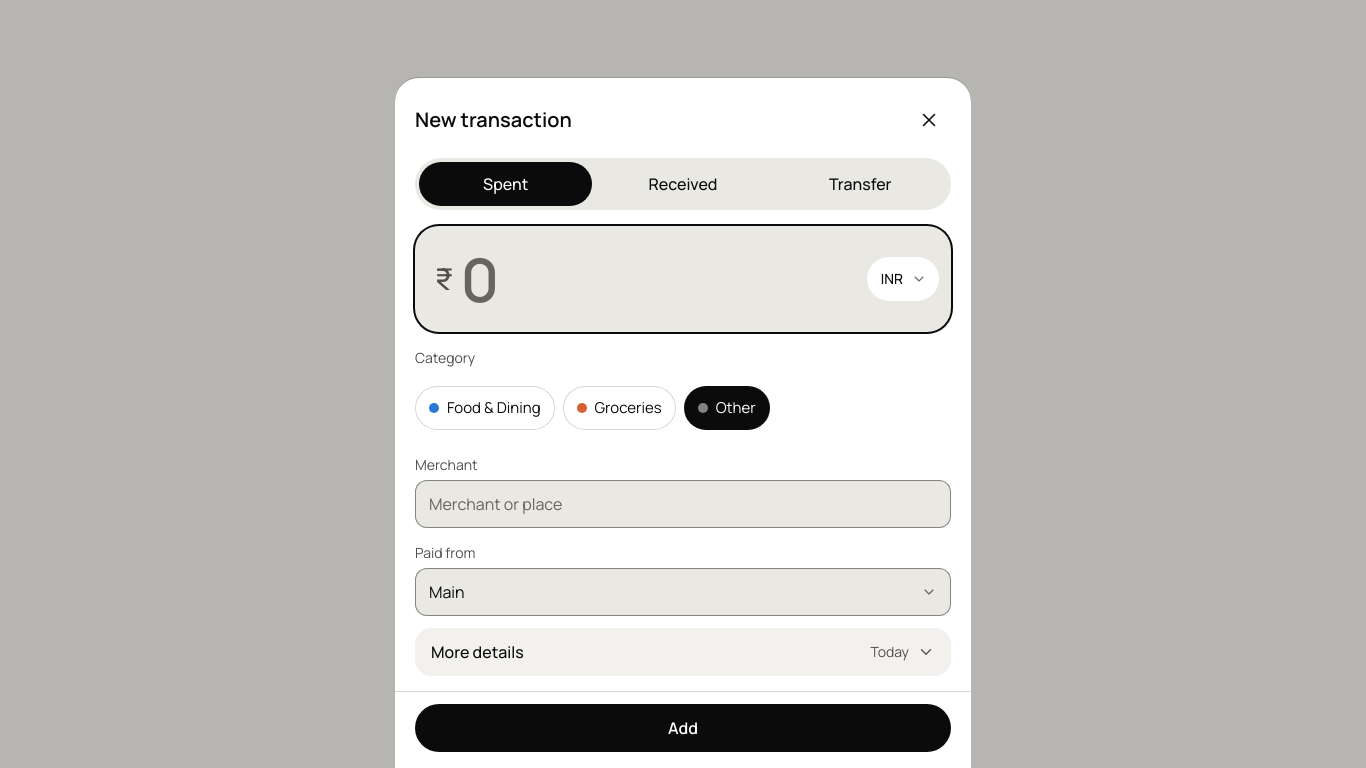
Test: Add form: transfer › refuses a transfer to the same account
Click the radio button labelled "Transfer" at (860, 184), box [829, 173, 892, 195]
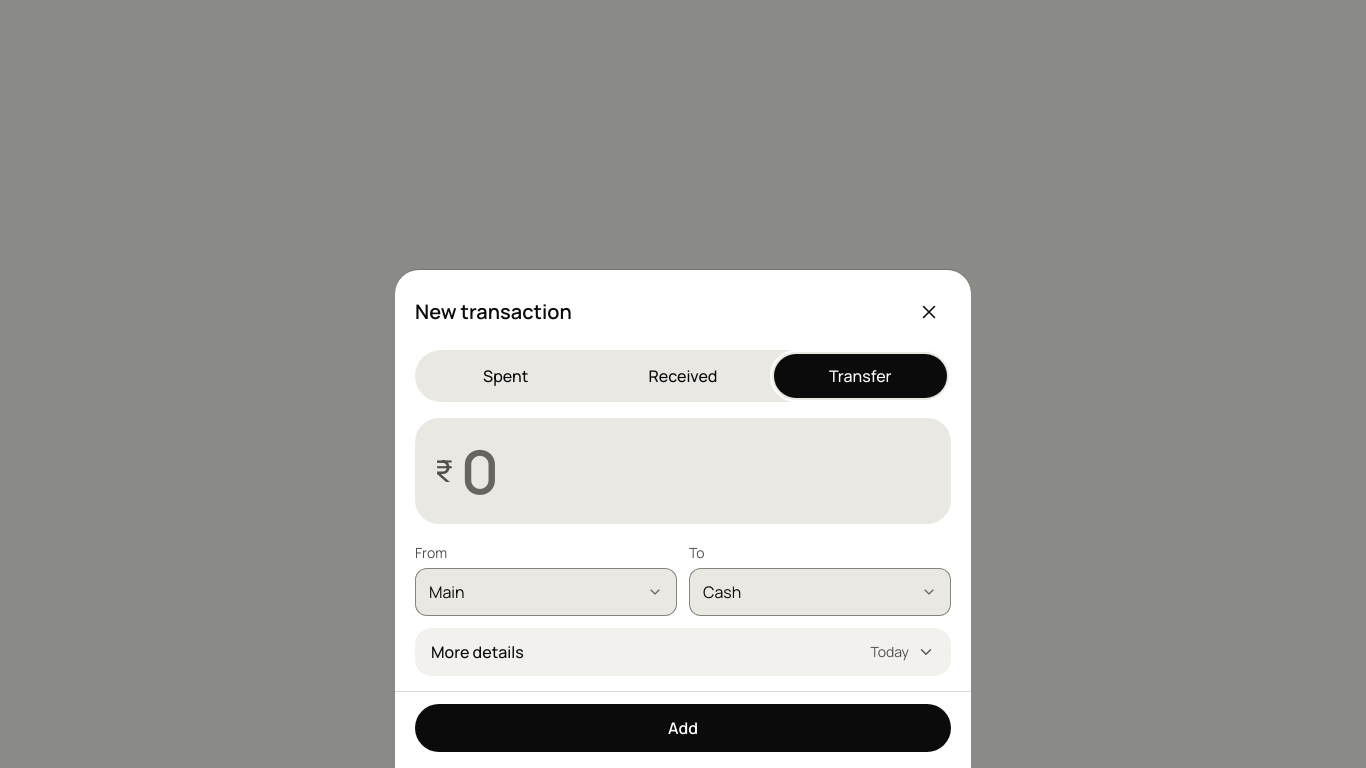
Click the button named "To" at (722, 592), box [689, 568, 951, 616]
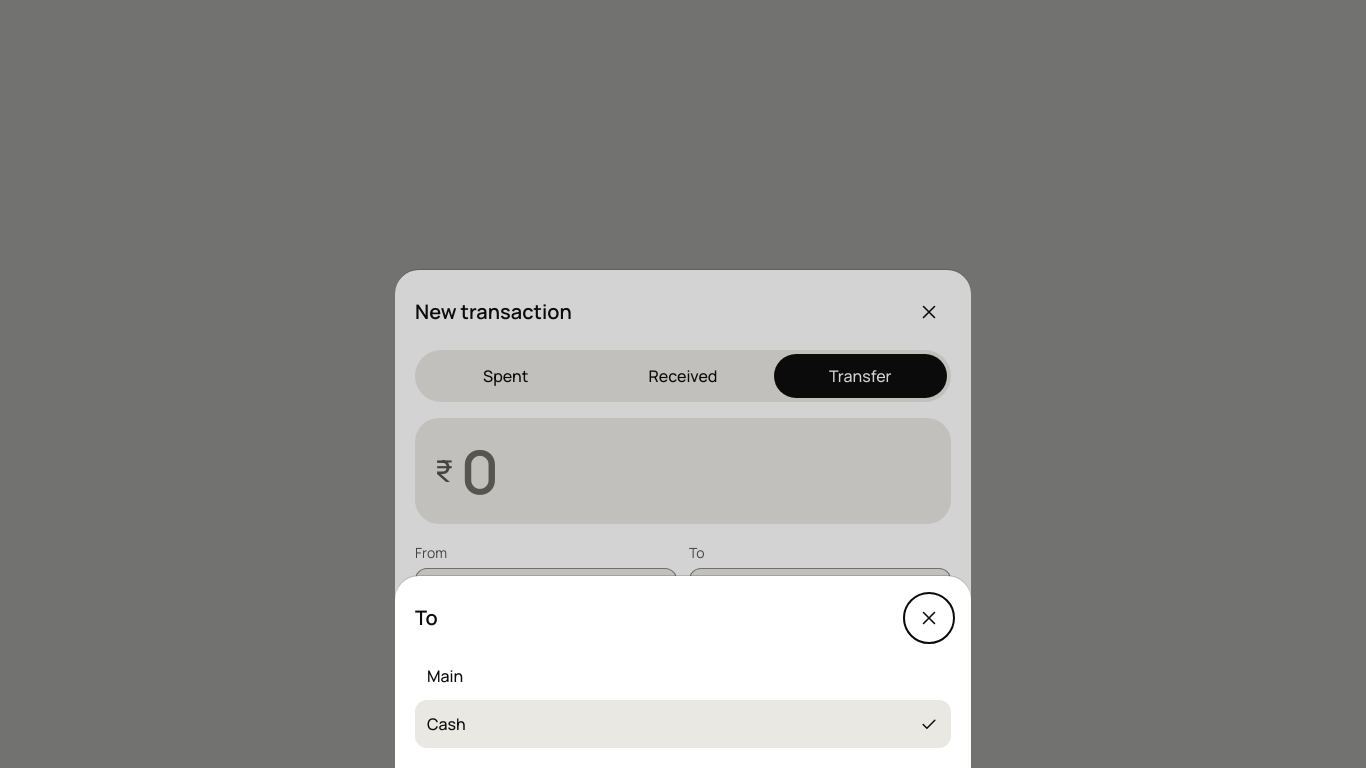
Click the radio button labelled "Main" at (445, 676), box [415, 652, 951, 700]
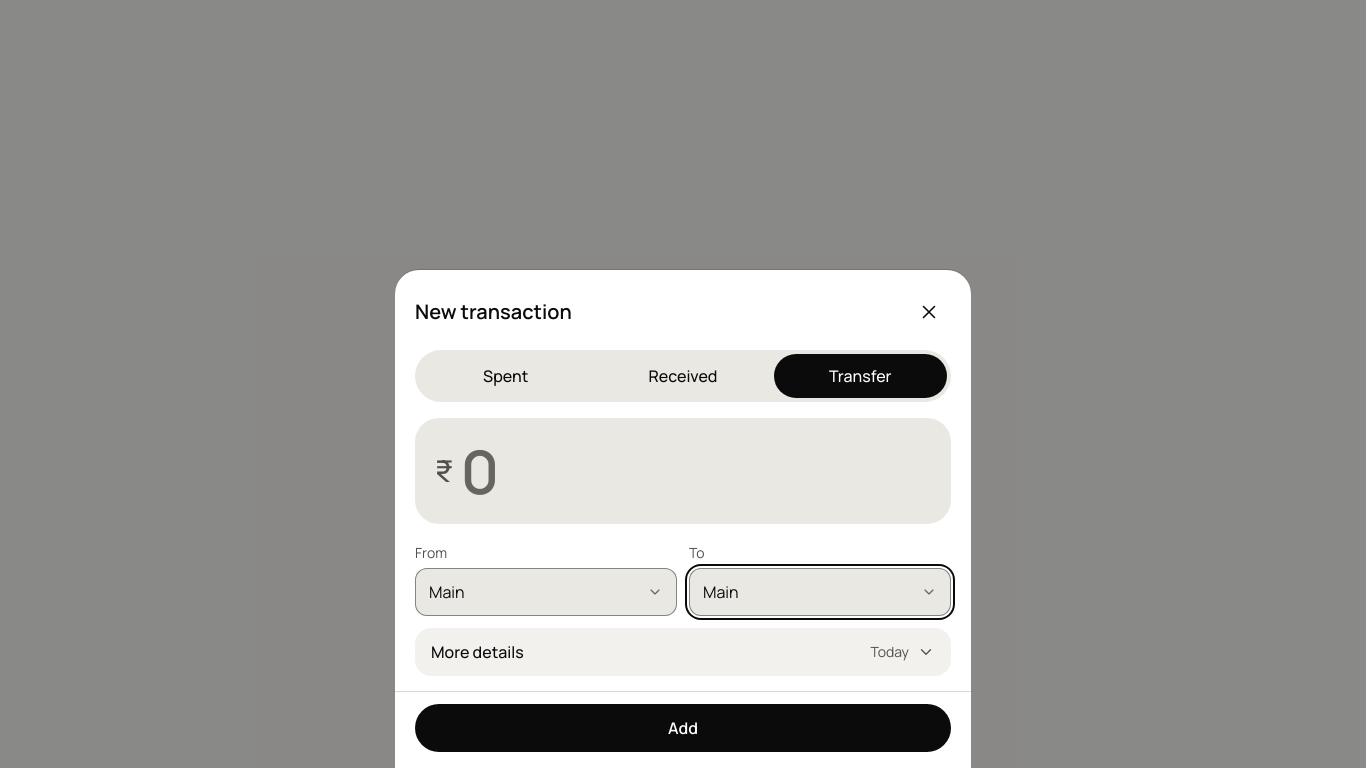
Type "100" into the field named "Amount" at (700, 471), box [461, 430, 939, 512]
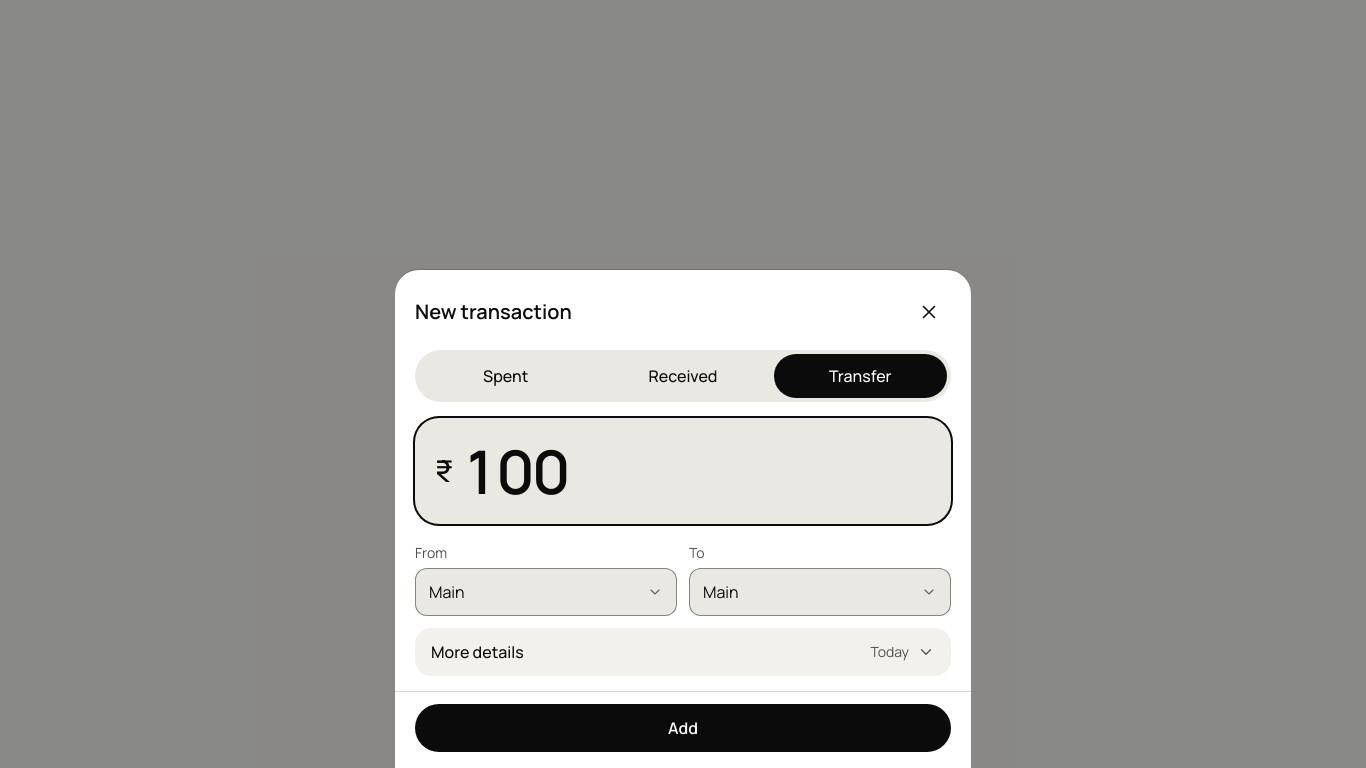
Click the button "Add" at (683, 728), box [415, 704, 951, 752]
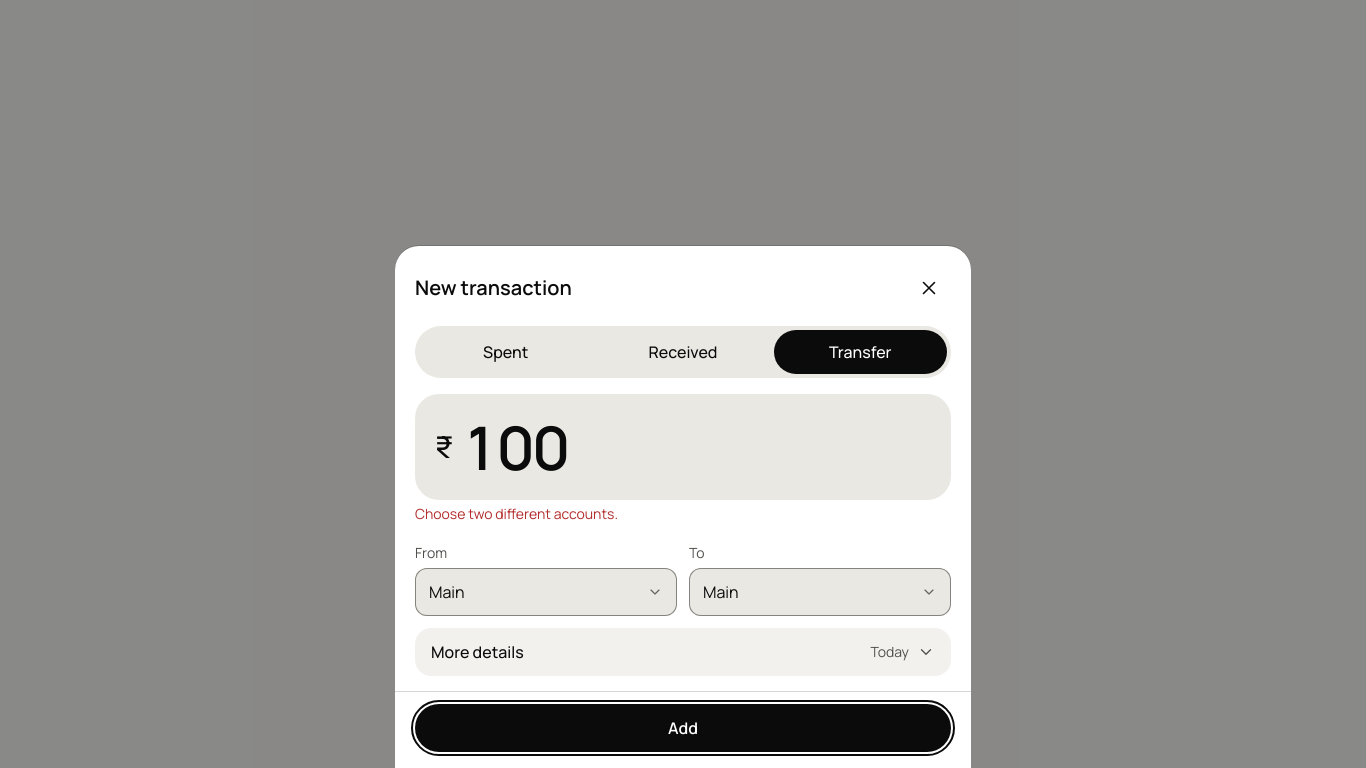
Result: the message reads "Choose two different accounts." at [415, 504, 618, 523]
